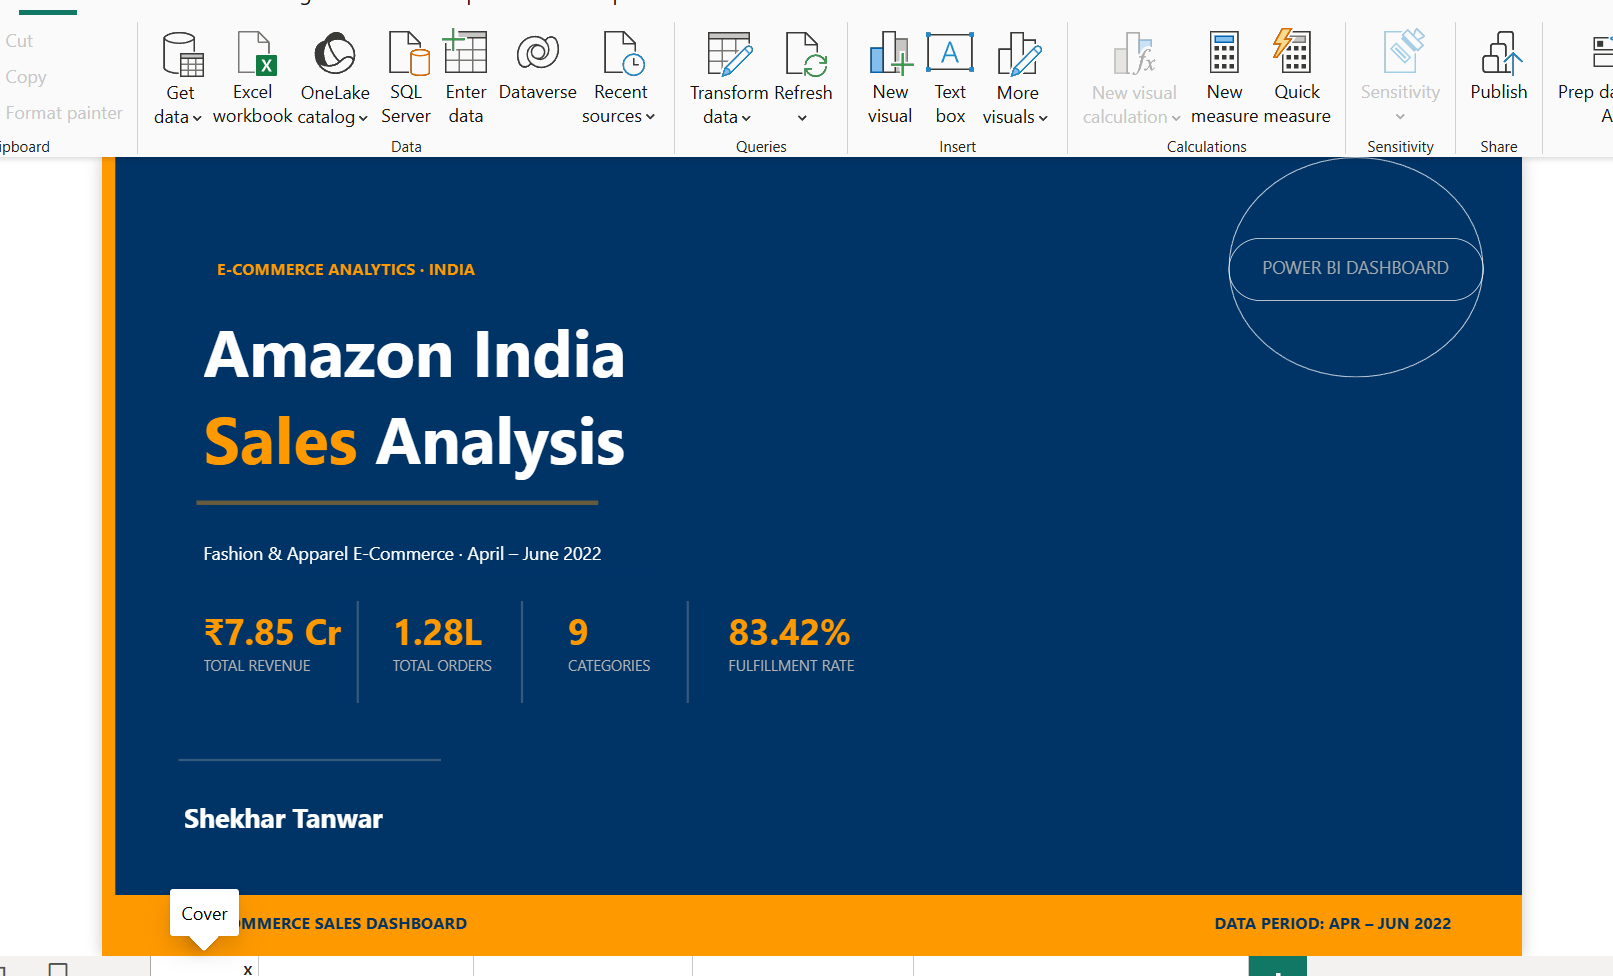

This screenshot's page, from the dashboard's own definition file:
{"tool":"powerbi","page":{"name":"Cover","canvas":[1280,720],"ordinal":0},"visuals":[{"type":"shape","box":[0,0,12.2,720.5],"z":0},{"type":"shape","box":[0,665,1280.1,55.4],"z":1000},{"type":"textbox","box":[98.7,85.2,316.3,44.6],"z":2000},{"type":"textbox","box":[86.5,129.8,417.7,171.7],"z":3000},{"type":"textbox","box":[86.5,340.6,419,33.8],"z":4000},{"type":"textbox","box":[86.5,400.1,144.6,91.9],"z":5000},{"type":"textbox","box":[256.8,400.1,121.7,91.9],"z":6000},{"type":"textbox","box":[415,400.1,119,91.9],"z":7000},{"type":"textbox","box":[559.6,400.1,140.6,91.9],"z":8000},{"type":"shape","box":[155.4,400.1,150,91.9],"z":9000},{"type":"shape","box":[323.1,400.1,110.8,91.9],"z":10000},{"type":"shape","box":[474.5,400.1,106.8,91.9],"z":11000},{"type":"shape","box":[68.9,528.5,236.6,29.7],"z":12000},{"type":"textbox","box":[68.9,573.1,289.3,48.7],"z":13000},{"type":"shape","box":[85.2,236.6,362.3,150],"z":14000},{"type":"textbox","box":[86.5,674.5,292,31.1],"z":15000},{"type":"textbox","box":[997.6,674.5,247.4,31.1],"z":16000},{"type":"textbox","box":[1015.1,73,229.8,56.8],"z":16001},{"type":"shape","box":[1015.1,0,229.8,198.7],"z":16002}]}

Visuals, with their boxes on the page's 1280x720 design canvas (x1, y1, x2, y2). These are canvas units, not pixel positions in the 1613x976 screenshot, which may show the page scaled, cropped or inside an application window:
shape: pyautogui.locateOnScreen(0, 0, 12, 720)
shape: pyautogui.locateOnScreen(0, 665, 1280, 720)
textbox: pyautogui.locateOnScreen(99, 85, 415, 130)
textbox: pyautogui.locateOnScreen(86, 130, 504, 302)
textbox: pyautogui.locateOnScreen(86, 341, 506, 374)
textbox: pyautogui.locateOnScreen(86, 400, 231, 492)
textbox: pyautogui.locateOnScreen(257, 400, 378, 492)
textbox: pyautogui.locateOnScreen(415, 400, 534, 492)
textbox: pyautogui.locateOnScreen(560, 400, 700, 492)
shape: pyautogui.locateOnScreen(155, 400, 305, 492)
shape: pyautogui.locateOnScreen(323, 400, 434, 492)
shape: pyautogui.locateOnScreen(474, 400, 581, 492)
shape: pyautogui.locateOnScreen(69, 528, 306, 558)
textbox: pyautogui.locateOnScreen(69, 573, 358, 622)
shape: pyautogui.locateOnScreen(85, 237, 448, 387)
textbox: pyautogui.locateOnScreen(86, 674, 378, 706)
textbox: pyautogui.locateOnScreen(998, 674, 1245, 706)
textbox: pyautogui.locateOnScreen(1015, 73, 1245, 130)
shape: pyautogui.locateOnScreen(1015, 0, 1245, 199)
